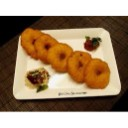vada: (21, 28, 48, 61), (49, 43, 77, 71), (35, 34, 61, 64), (85, 59, 110, 88), (68, 51, 92, 79)
